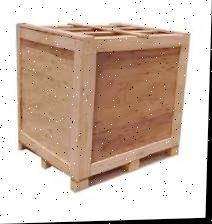cube: (17, 18, 187, 175)
